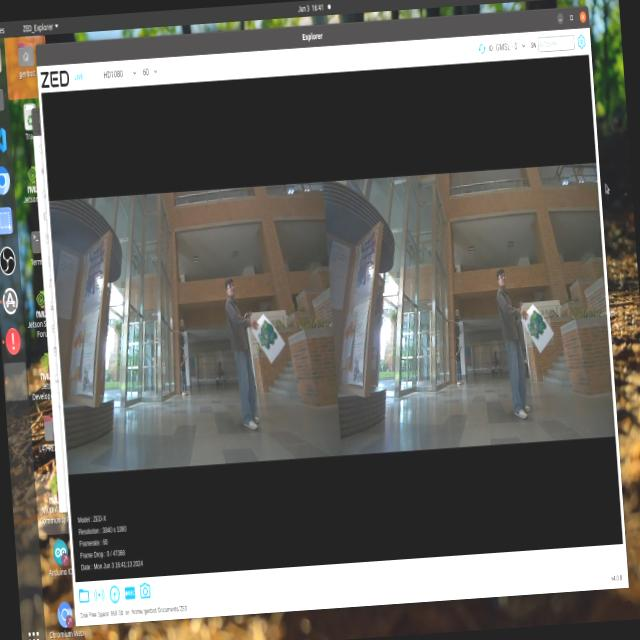green: (523, 295, 554, 352), (252, 318, 288, 362)
